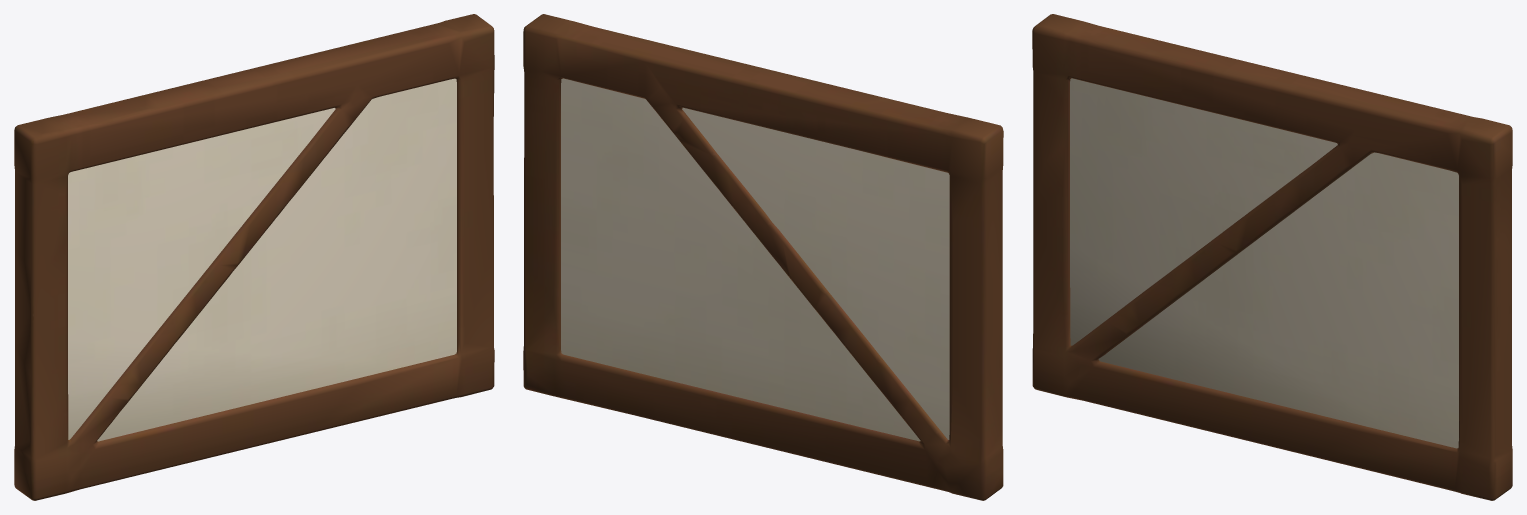
The model's file is plaster-wall.glb.
3 renders of one model, left to right at view 1: azimuth 30°, elevation 25°; view 2: azimuth 150°, elevation 25°; view 3: azimuth 330°, elevation 25°, orthographic.
Visible parts, largest first — view 1: timber; view 2: timber; view 3: timber.
Boxes of the visible parts, x1,y1,x2,y2 form: timber: (14,14,494,500); timber: (523,14,1003,500); timber: (1032,14,1512,500).
Size of the model in its own units: 2.01 by 1.51 by 0.1582.
Materials: 1 (1 with a texture image).
